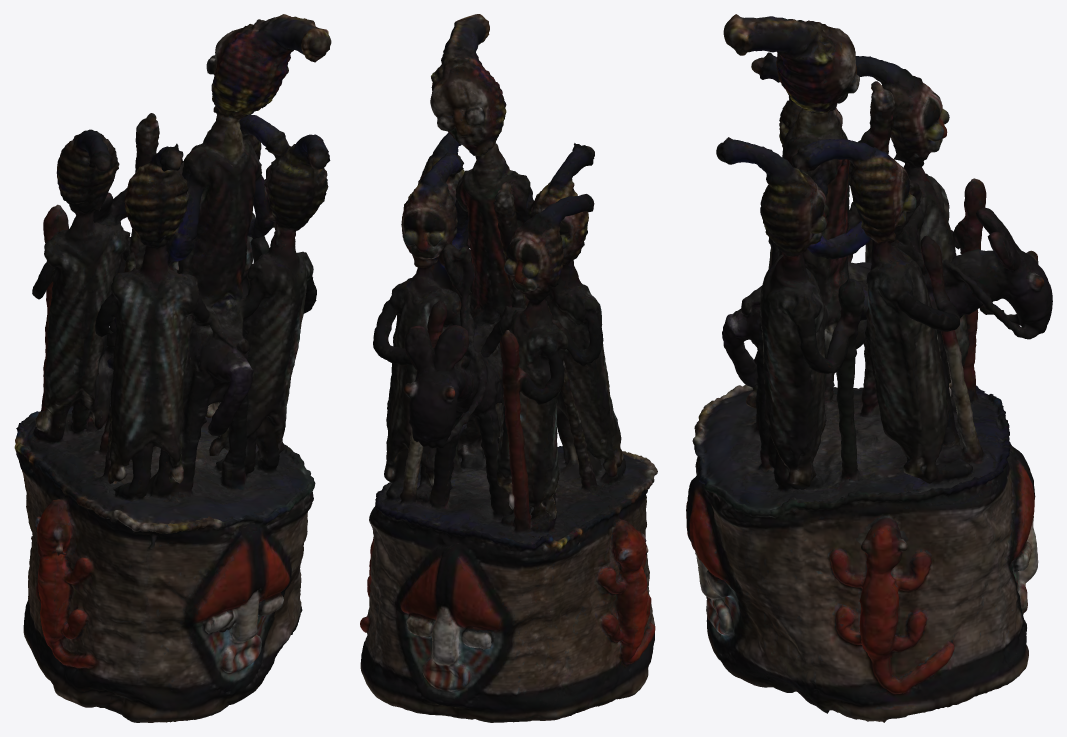
The model's file is preview.glb.
3 views of the same model, side by side, from view 1: azimuth 30°, elevation 25°; view 2: azimuth 150°, elevation 25°; view 3: azimuth 270°, elevation 25° (orthographic). The views are drawn at different scales.
Parts seen in each view (by area): view 1: Object_2; view 2: Object_2; view 3: Object_2.
Part boxes in pixels (x1,y1,x2,y2): Object_2: [14, 14, 331, 722]; Object_2: [360, 14, 657, 722]; Object_2: [686, 14, 1052, 722].
Bounding box in the file's own units: 286 × 652 × 310.
1 material, 1 textured.
